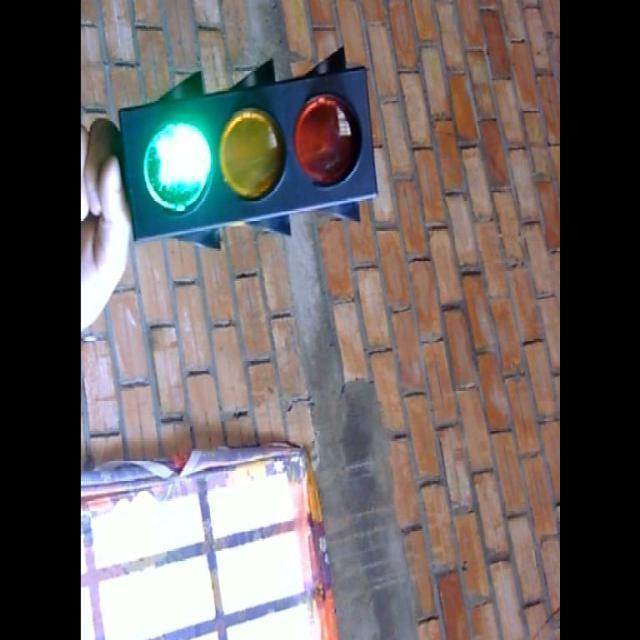green_light: (116, 54, 376, 238)
